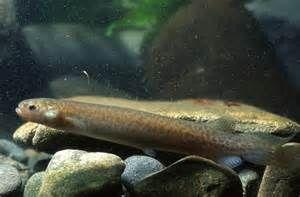Mudfish: (17, 97, 283, 168)
